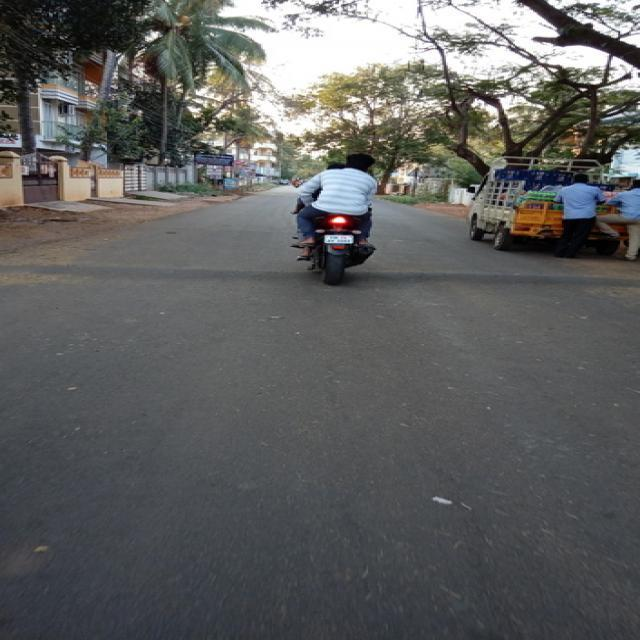NonMarked Bump: (45, 258, 632, 298)
